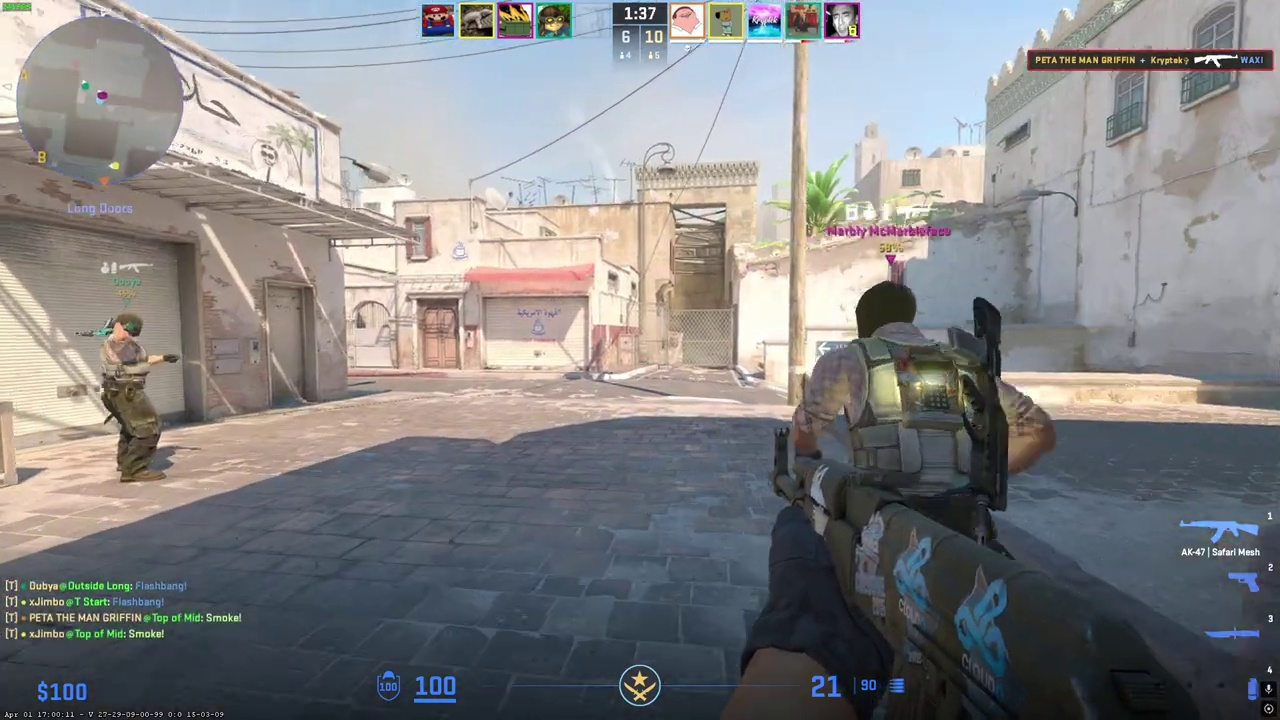Terrorist: (792, 281, 1023, 550), (100, 313, 166, 482)
